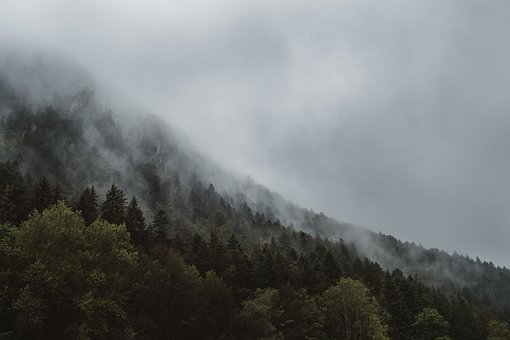mountain: (6, 64, 510, 333)
sky: (5, 2, 510, 243)
tree: (18, 206, 146, 336), (124, 206, 252, 336), (233, 207, 361, 337)
